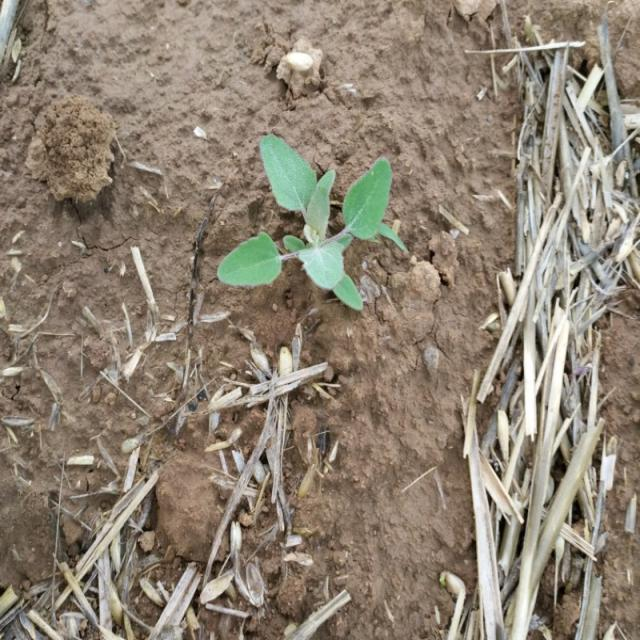goosefoots: (218, 137, 424, 330)
